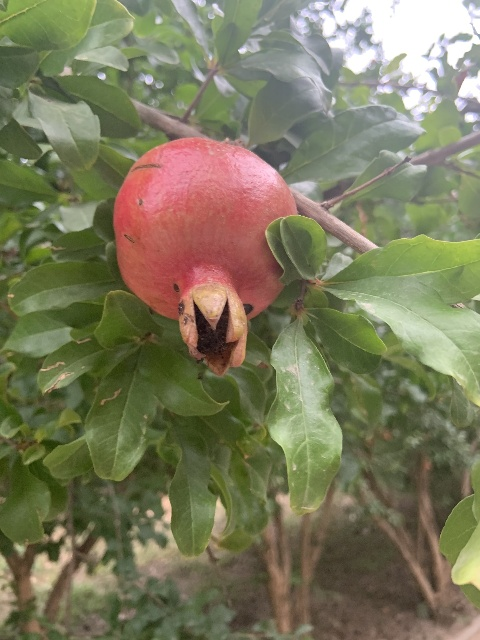ripe: (112, 137, 297, 374)
